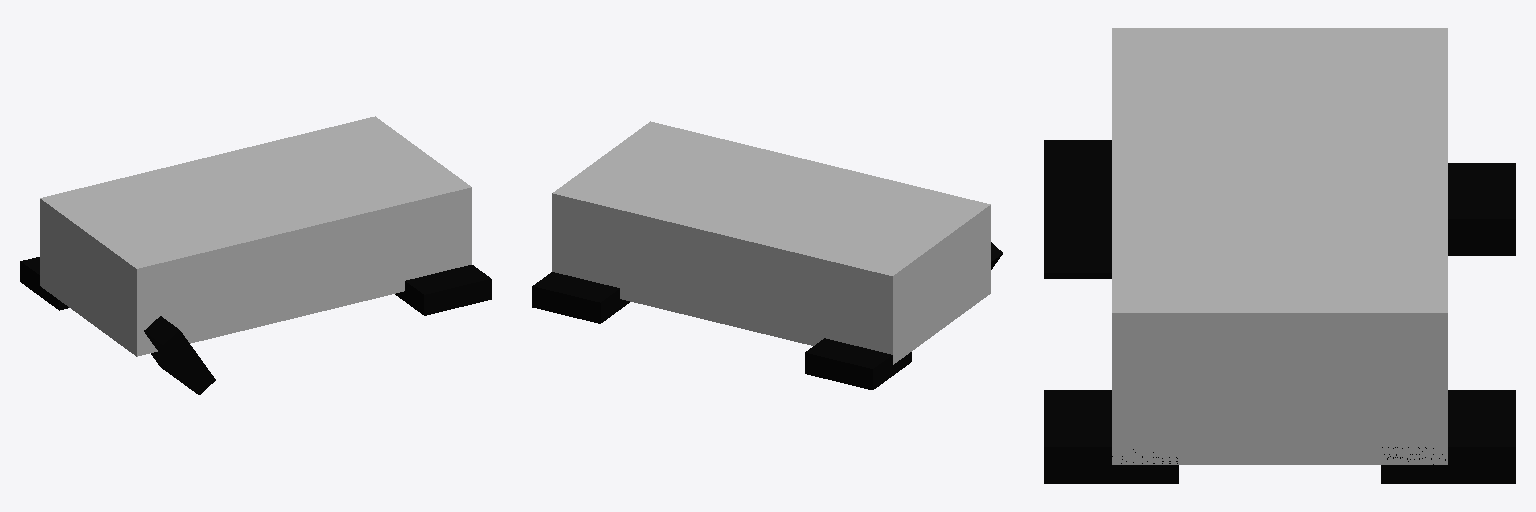
URDF robot description (robot_car):
<?xml version="1.0"?>
<robot name="robot_car">

  <!-- Root world -->
  <link name="world"/>

  <!-- Chassis -->
  <link name="base_link">
    <visual>
      <origin xyz="0 0 0" rpy="0 0 0"/>
      <geometry>
        <mesh filename="package://vehicle_description/meshes/chassis.stl"/>
      </geometry>
      <material name="chassis_gray">
        <color rgba="0.75 0.75 0.75 1.0"/>
      </material>
    </visual>

    <collision>
      <origin xyz="0 0 0" rpy="0 0 0"/>
      <geometry>
        <box size="2 1 0.5"/>
      </geometry>
    </collision>

    <inertial>
      <origin xyz="0 0 0" rpy="0 0 0"/>
      <mass value="10"/>
      <inertia ixx="1" ixy="0" ixz="0"
               iyy="1" iyz="0"
               izz="1"/>
    </inertial>
  </link>

  <!-- Fix to world so RViz has a stable frame -->
  <joint name="world_joint" type="fixed">
    <parent link="world"/>
    <child link="base_link"/>
    <origin xyz="0 0 0" rpy="0 0 0"/>
  </joint>

  <!-- Wheel links -->
  <link name="wheel_fl">
    <visual>
      <geometry>
        <mesh filename="package://vehicle_description/meshes/wheel_tire.stl"/>
      </geometry>
      <material name="tire_black">
        <color rgba="0.05 0.05 0.05 1.0"/>
      </material>
    </visual>
    <visual>
      <geometry>
        <mesh filename="package://vehicle_description/meshes/wheel_rim.stl"/>
      </geometry>
      <material name="rim_gray">
        <color rgba="0.7 0.7 0.7 1.0"/>
      </material>
    </visual>
  </link>

  <link name="wheel_fr">
    <visual>
      <geometry>
        <mesh filename="package://vehicle_description/meshes/wheel_tire.stl"/>
      </geometry>
      <material name="tire_black"/>
    </visual>
    <visual>
      <geometry>
        <mesh filename="package://vehicle_description/meshes/wheel_rim.stl"/>
      </geometry>
      <material name="rim_gray"/>
    </visual>
  </link>

  <link name="wheel_rl">
    <visual>
      <geometry>
        <mesh filename="package://vehicle_description/meshes/wheel_tire.stl"/>
      </geometry>
      <material name="tire_black"/>
    </visual>
    <visual>
      <geometry>
        <mesh filename="package://vehicle_description/meshes/wheel_rim.stl"/>
      </geometry>
      <material name="rim_gray"/>
    </visual>
  </link>

  <link name="wheel_rr">
    <visual>
      <geometry>
        <mesh filename="package://vehicle_description/meshes/wheel_tire.stl"/>
      </geometry>
      <material name="tire_black"/>
    </visual>
    <visual>
      <geometry>
        <mesh filename="package://vehicle_description/meshes/wheel_rim.stl"/>
      </geometry>
      <material name="rim_gray"/>
    </visual>
  </link>

  <!-- Wheel joints (revolute, GUI-controllable) -->
  <!-- NOTE: wheels are placed at z = -0.25 (bottom of chassis) -->
  <!-- Axis is Y so they spin like a car wheel (if X is forward) -->

  <joint name="wheel_fl_joint" type="revolute">
    <parent link="base_link"/>
    <child link="wheel_fl"/>
    <origin xyz="0.8 0.5 -0.25" rpy="0 0 0"/>
    <axis xyz="0 1 0"/>
    <limit lower="-100" upper="100" effort="10" velocity="10"/>
  </joint>

  <joint name="wheel_fr_joint" type="revolute">
    <parent link="base_link"/>
    <child link="wheel_fr"/>
    <origin xyz="0.8 -0.5 -0.25" rpy="0 0 0"/>
    <axis xyz="0 1 0"/>
    <limit lower="-100" upper="100" effort="10" velocity="10"/>
  </joint>

  <joint name="wheel_rl_joint" type="revolute">
    <parent link="base_link"/>
    <child link="wheel_rl"/>
    <origin xyz="-0.8 0.5 -0.25" rpy="0 0 0"/>
    <axis xyz="0 1 0"/>
    <limit lower="-100" upper="100" effort="10" velocity="10"/>
  </joint>

  <joint name="wheel_rr_joint" type="revolute">
    <parent link="base_link"/>
    <child link="wheel_rr"/>
    <origin xyz="-0.8 -0.5 -0.25" rpy="0 1 0"/>
    <axis xyz="0 1 0"/>
    <limit lower="-100" upper="100" effort="10" velocity="10"/>
  </joint>

</robot>

--- Facts derived from the render (not from the file) ---
3 views of the same robot in one strip: view 1: azimuth 30°, elevation 25°; view 2: azimuth 150°, elevation 25°; view 3: azimuth 270°, elevation 25° (orthographic).
Model robot_car with 6 links and 5 joints (4 revolute, 1 fixed), rooted at world, posed every joint at zero.
Links seen in each view (by area): view 1: base_link, wheel_fr, wheel_rr, wheel_rl; view 2: base_link, wheel_rl, wheel_fl; view 3: base_link, wheel_rr, wheel_fl, wheel_fr, wheel_rl.
Boxes of the visible links, box(x1,y1,x2,y2) form: base_link: box(40, 116, 471, 356); wheel_fr: box(395, 265, 491, 315); wheel_rr: box(144, 316, 215, 394); wheel_rl: box(20, 257, 68, 310); base_link: box(552, 121, 990, 364); wheel_rl: box(805, 338, 911, 389); wheel_fl: box(532, 272, 629, 323); base_link: box(1112, 28, 1447, 464); wheel_rr: box(1044, 140, 1111, 278); wheel_fl: box(1381, 390, 1515, 483); wheel_fr: box(1044, 390, 1178, 483); wheel_rl: box(1448, 163, 1515, 255).
Size in the robot's own frame: 2 by 1.4 by 0.7007 metres.
9 mesh visuals loaded from 3 distinct referenced files (3 ASCII STL).
